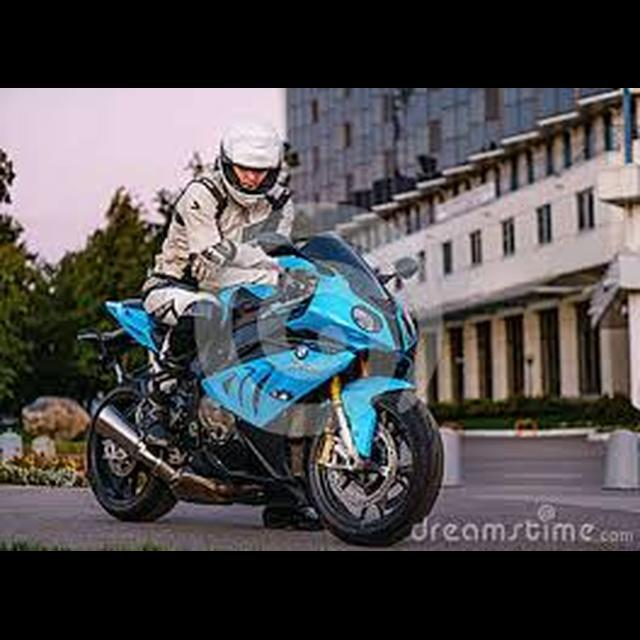motorcycle: (85, 225, 450, 552)
